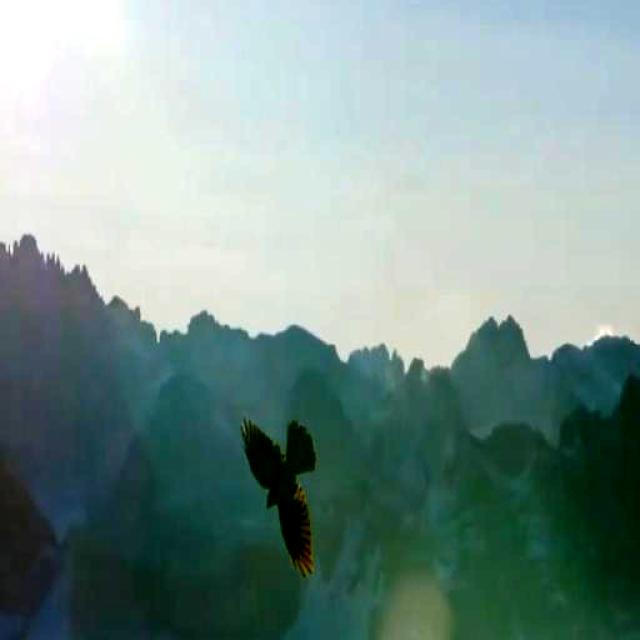airplane: (230, 404, 349, 594)
